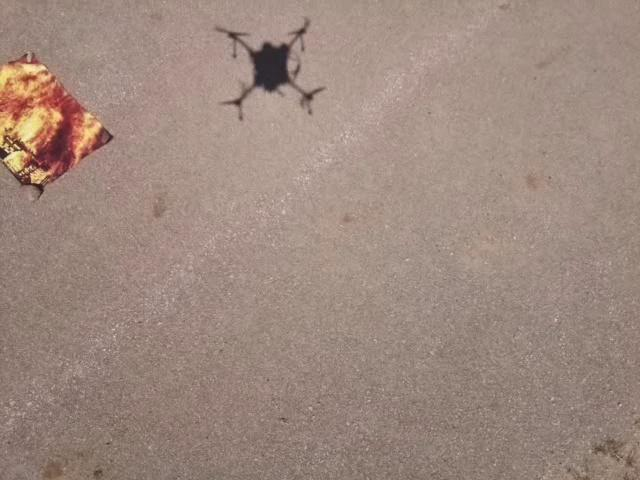fire-poster: (0, 49, 115, 202)
